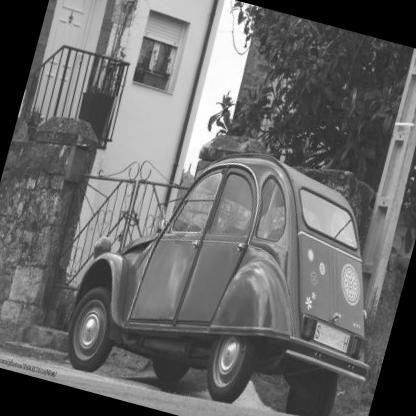car: (48, 113, 416, 416)
